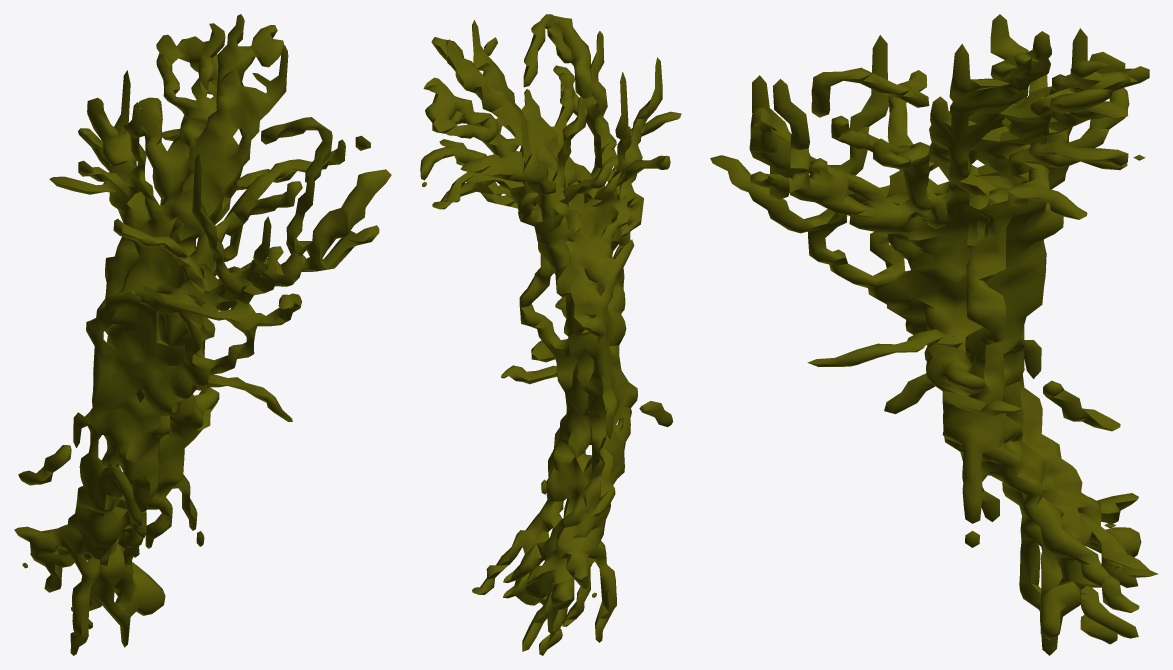
Rendered from Optic_radiation.obj.
3 views of the same model, side by side, from view 1: azimuth 30°, elevation 25°; view 2: azimuth 150°, elevation 25°; view 3: azimuth 270°, elevation 25° (orthographic). The views are drawn at different scales.
Visible parts, largest first — view 1: grp1; view 2: grp1; view 3: grp1.
Boxes of the visible parts, x1,y1,x2,y2 form: grp1: [14, 14, 391, 655]; grp1: [420, 14, 681, 655]; grp1: [710, 14, 1157, 655].
Size of the model in its own units: 53.98 by 133 by 78.95.
